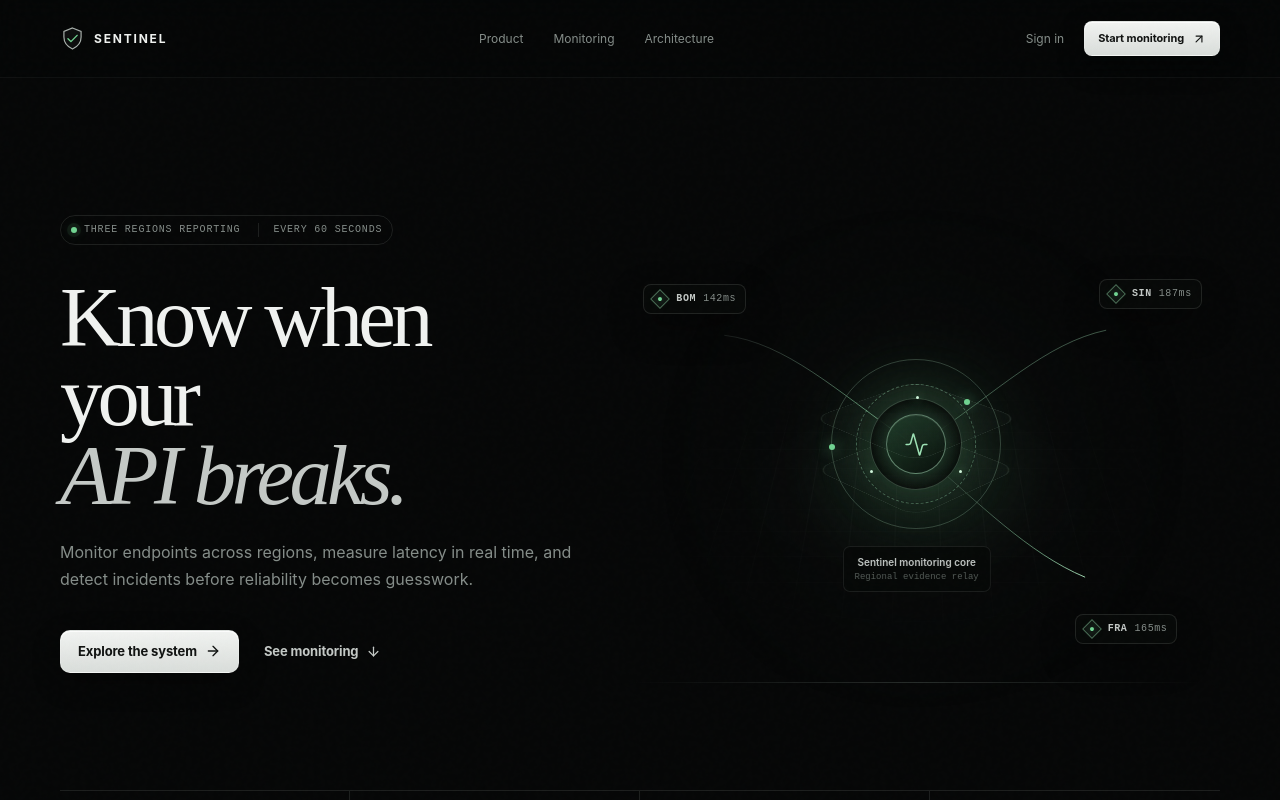
Test: Sentinel authentication routes › navigates from the landing sign-in action to /login
Click the link "Sign in".
click(1045, 38)  # box [1026, 29, 1064, 48]
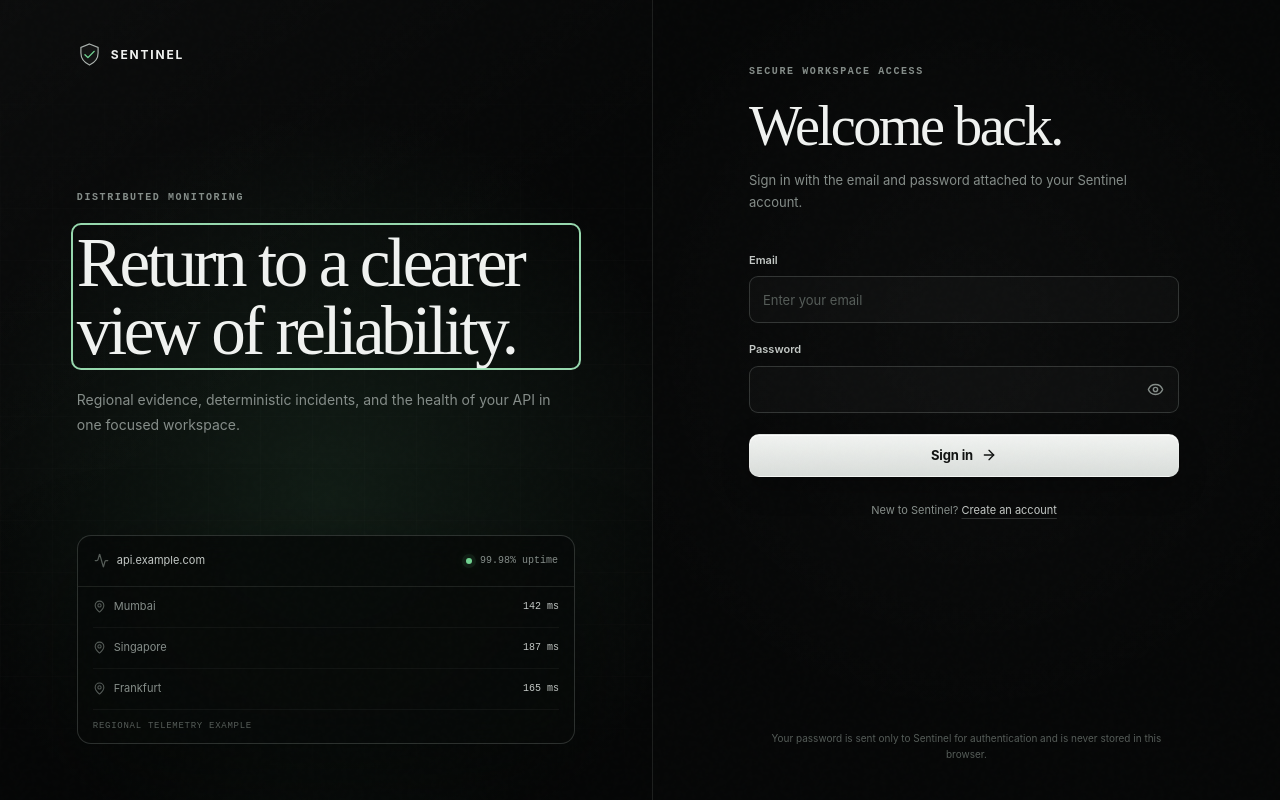
Check: the heading "Welcome back." is shown, box [749, 95, 1062, 157]
